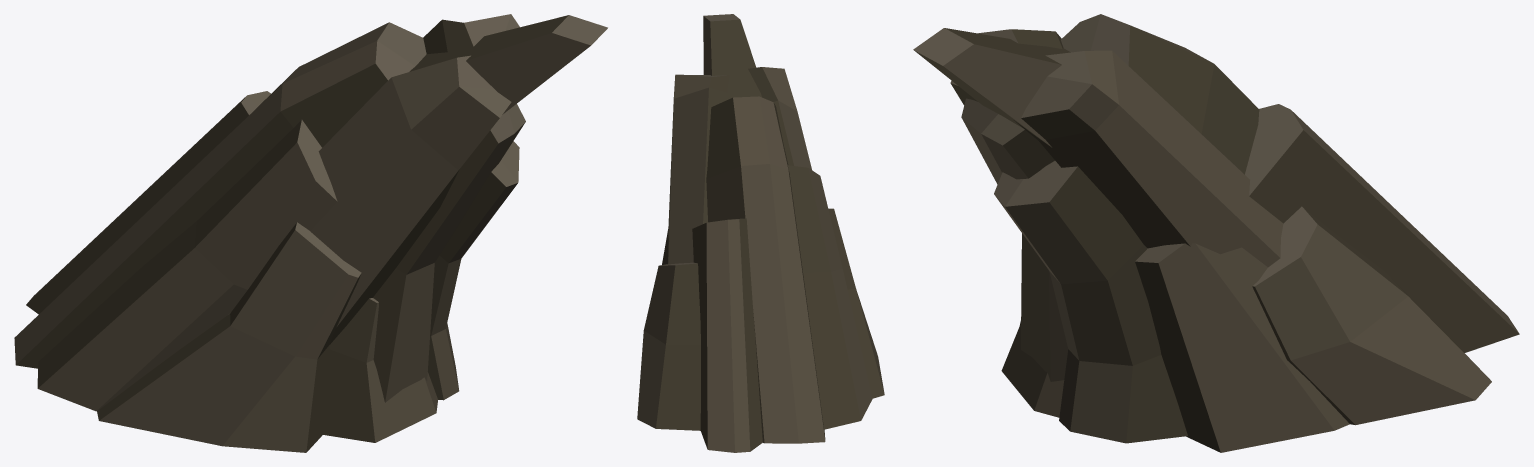
The model's file is MediumMore_SF_Env_Undead_Rock_01.fbx.
3 renders of one model, left to right at view 1: azimuth 30°, elevation 25°; view 2: azimuth 150°, elevation 25°; view 3: azimuth 270°, elevation 25°, orthographic. The views are drawn at different scales.
Parts seen in each view (by area): view 1: SF_Env_Undead_Rock_01; view 2: SF_Env_Undead_Rock_01; view 3: SF_Env_Undead_Rock_01.
Part boxes in pixels (bbox=[...]): SF_Env_Undead_Rock_01: bbox=[14, 14, 607, 452]; SF_Env_Undead_Rock_01: bbox=[637, 14, 884, 452]; SF_Env_Undead_Rock_01: bbox=[913, 14, 1519, 452].
Bounding box in the file's own units: 610 × 580 × 742.
